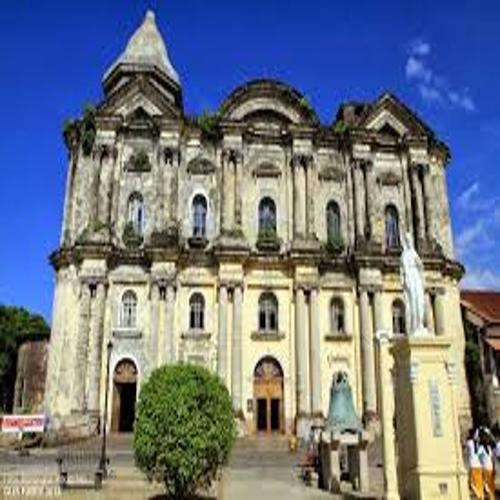Taal Basilica Church: (44, 5, 484, 475)
